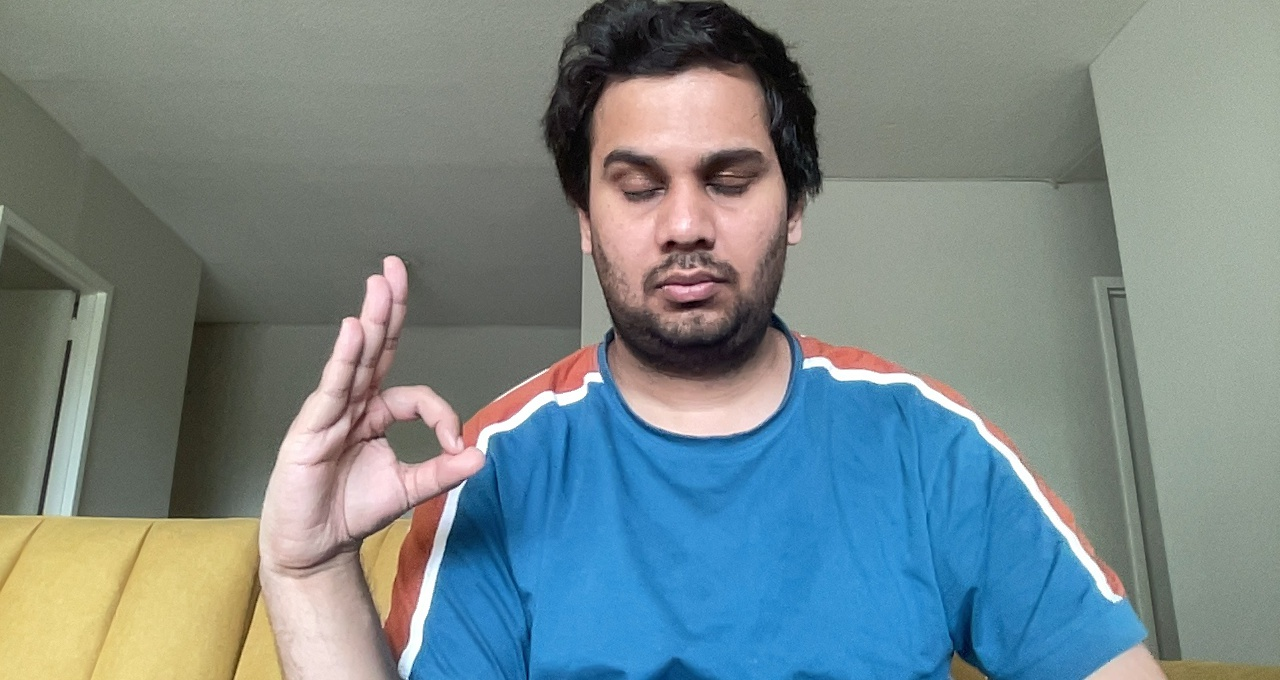ok: (241, 248, 489, 595)
